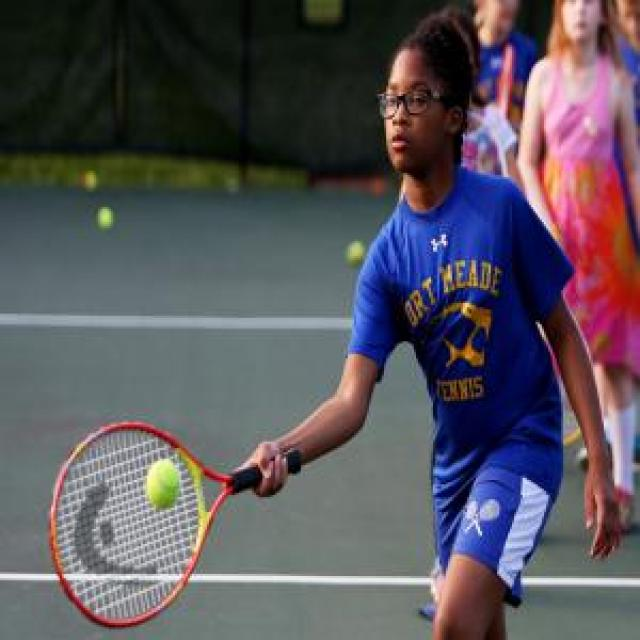ball: (142, 457, 188, 515), (94, 207, 116, 232), (347, 238, 365, 267)
